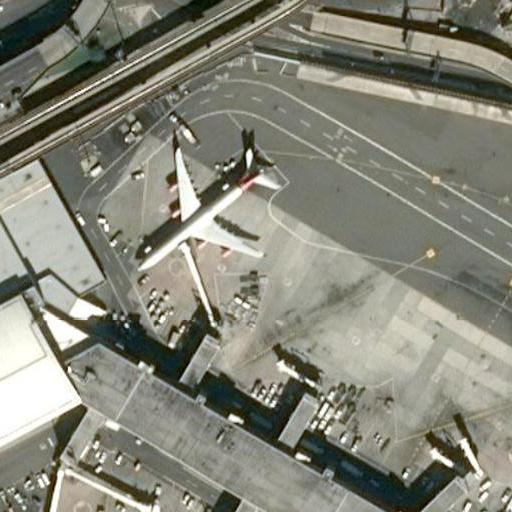Aircraft: (134, 130, 277, 267), (108, 496, 185, 512)
